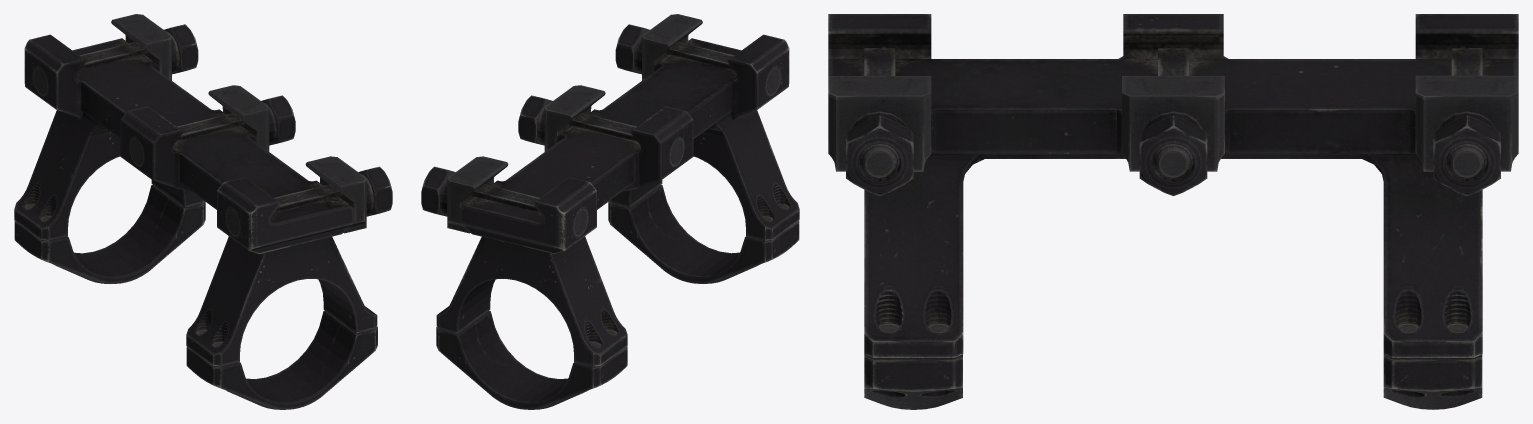
The picture shows the model from 3 angles, left to right: view 1: azimuth 30°, elevation 25°; view 2: azimuth 150°, elevation 25°; view 3: azimuth 270°, elevation 25°; orthographic projection. The views are drawn at different scales.
Parts seen in each view (by area): view 1: TW_5aa66a9be5b5b0214e506e89_PZ_Import; view 2: TW_5aa66a9be5b5b0214e506e89_PZ_Import; view 3: TW_5aa66a9be5b5b0214e506e89_PZ_Import.
Boxes of the visible parts, x1,y1,x2,y2 form: TW_5aa66a9be5b5b0214e506e89_PZ_Import: (14,14,392,409); TW_5aa66a9be5b5b0214e506e89_PZ_Import: (421,14,799,409); TW_5aa66a9be5b5b0214e506e89_PZ_Import: (828,14,1518,409).
Bounding box in the file's own units: 0.0295 × 0.0675 × 0.0365.
Materials: 1 (1 with a texture image).
